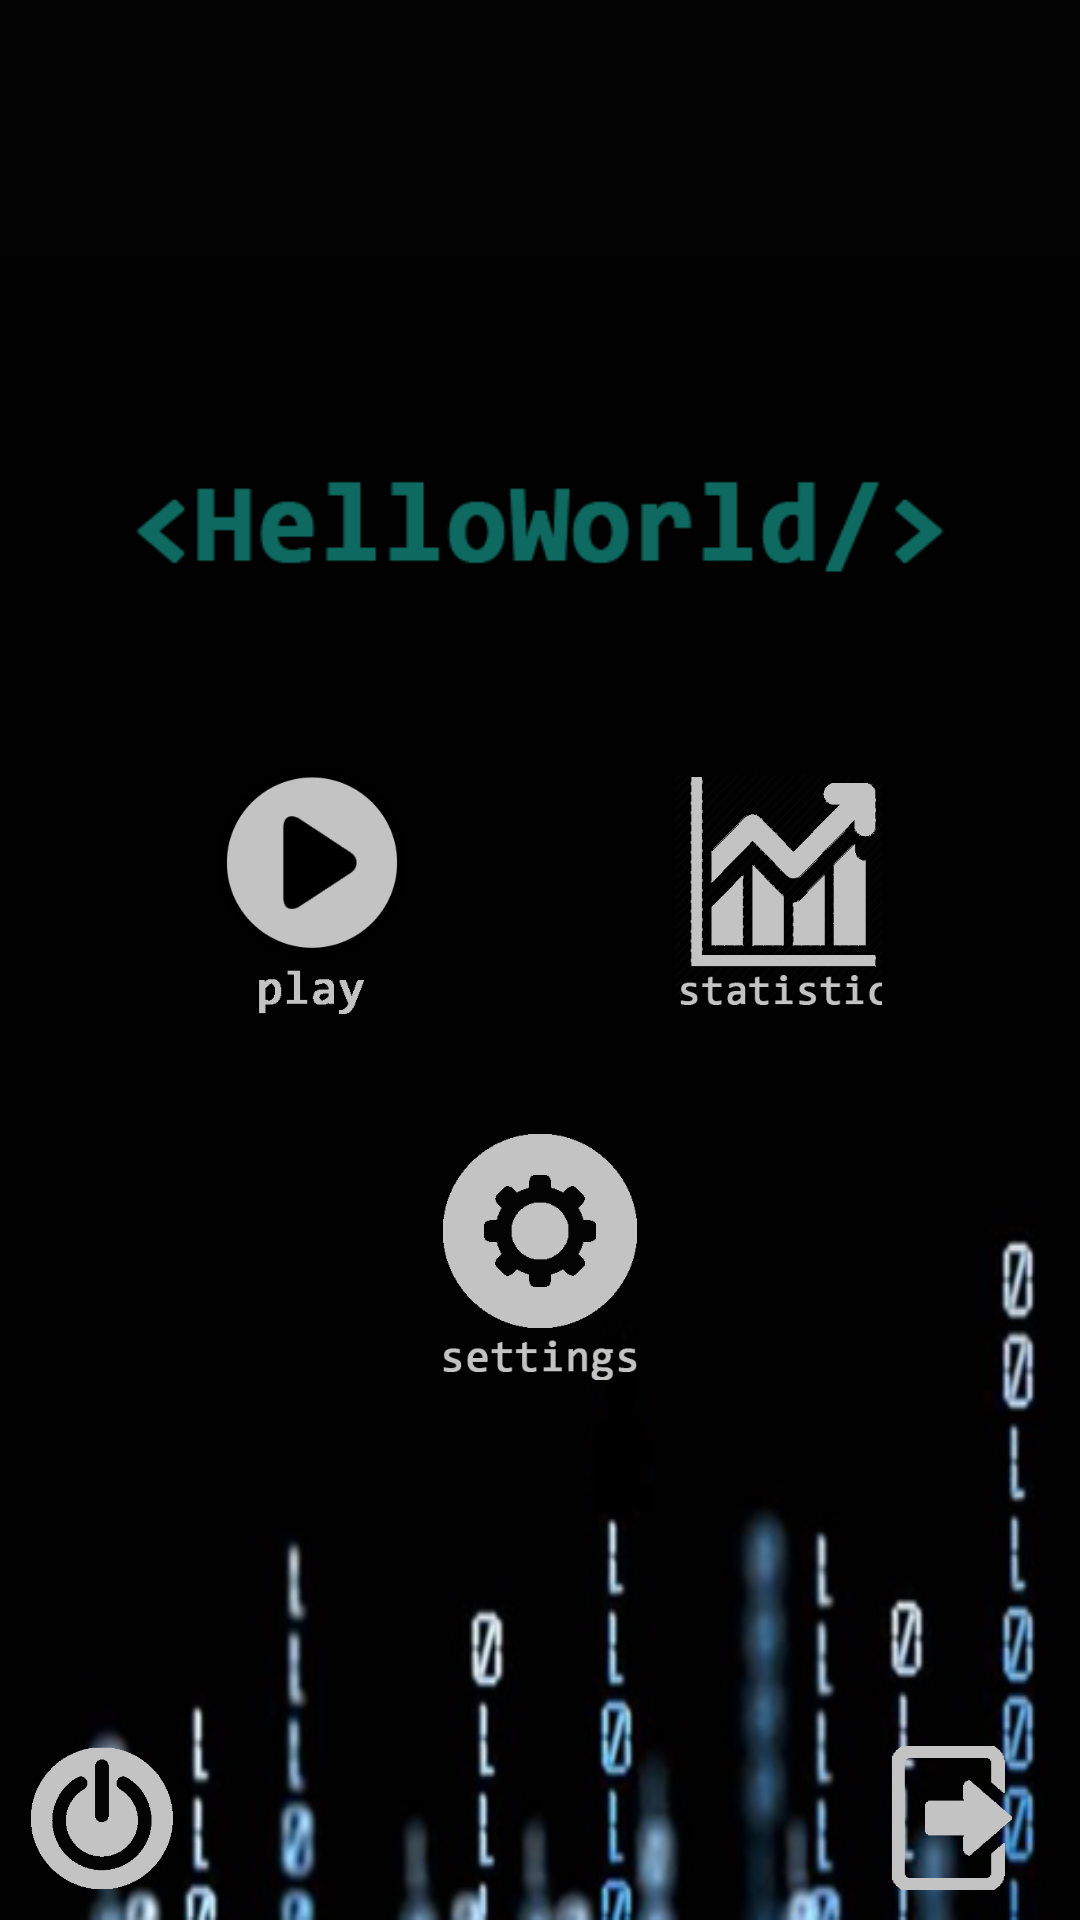

Screen size 1080x1920. Icon name, then its box in pixels as (x1, y1, x2, y2):
shutdown: (31, 1746, 173, 1890)
